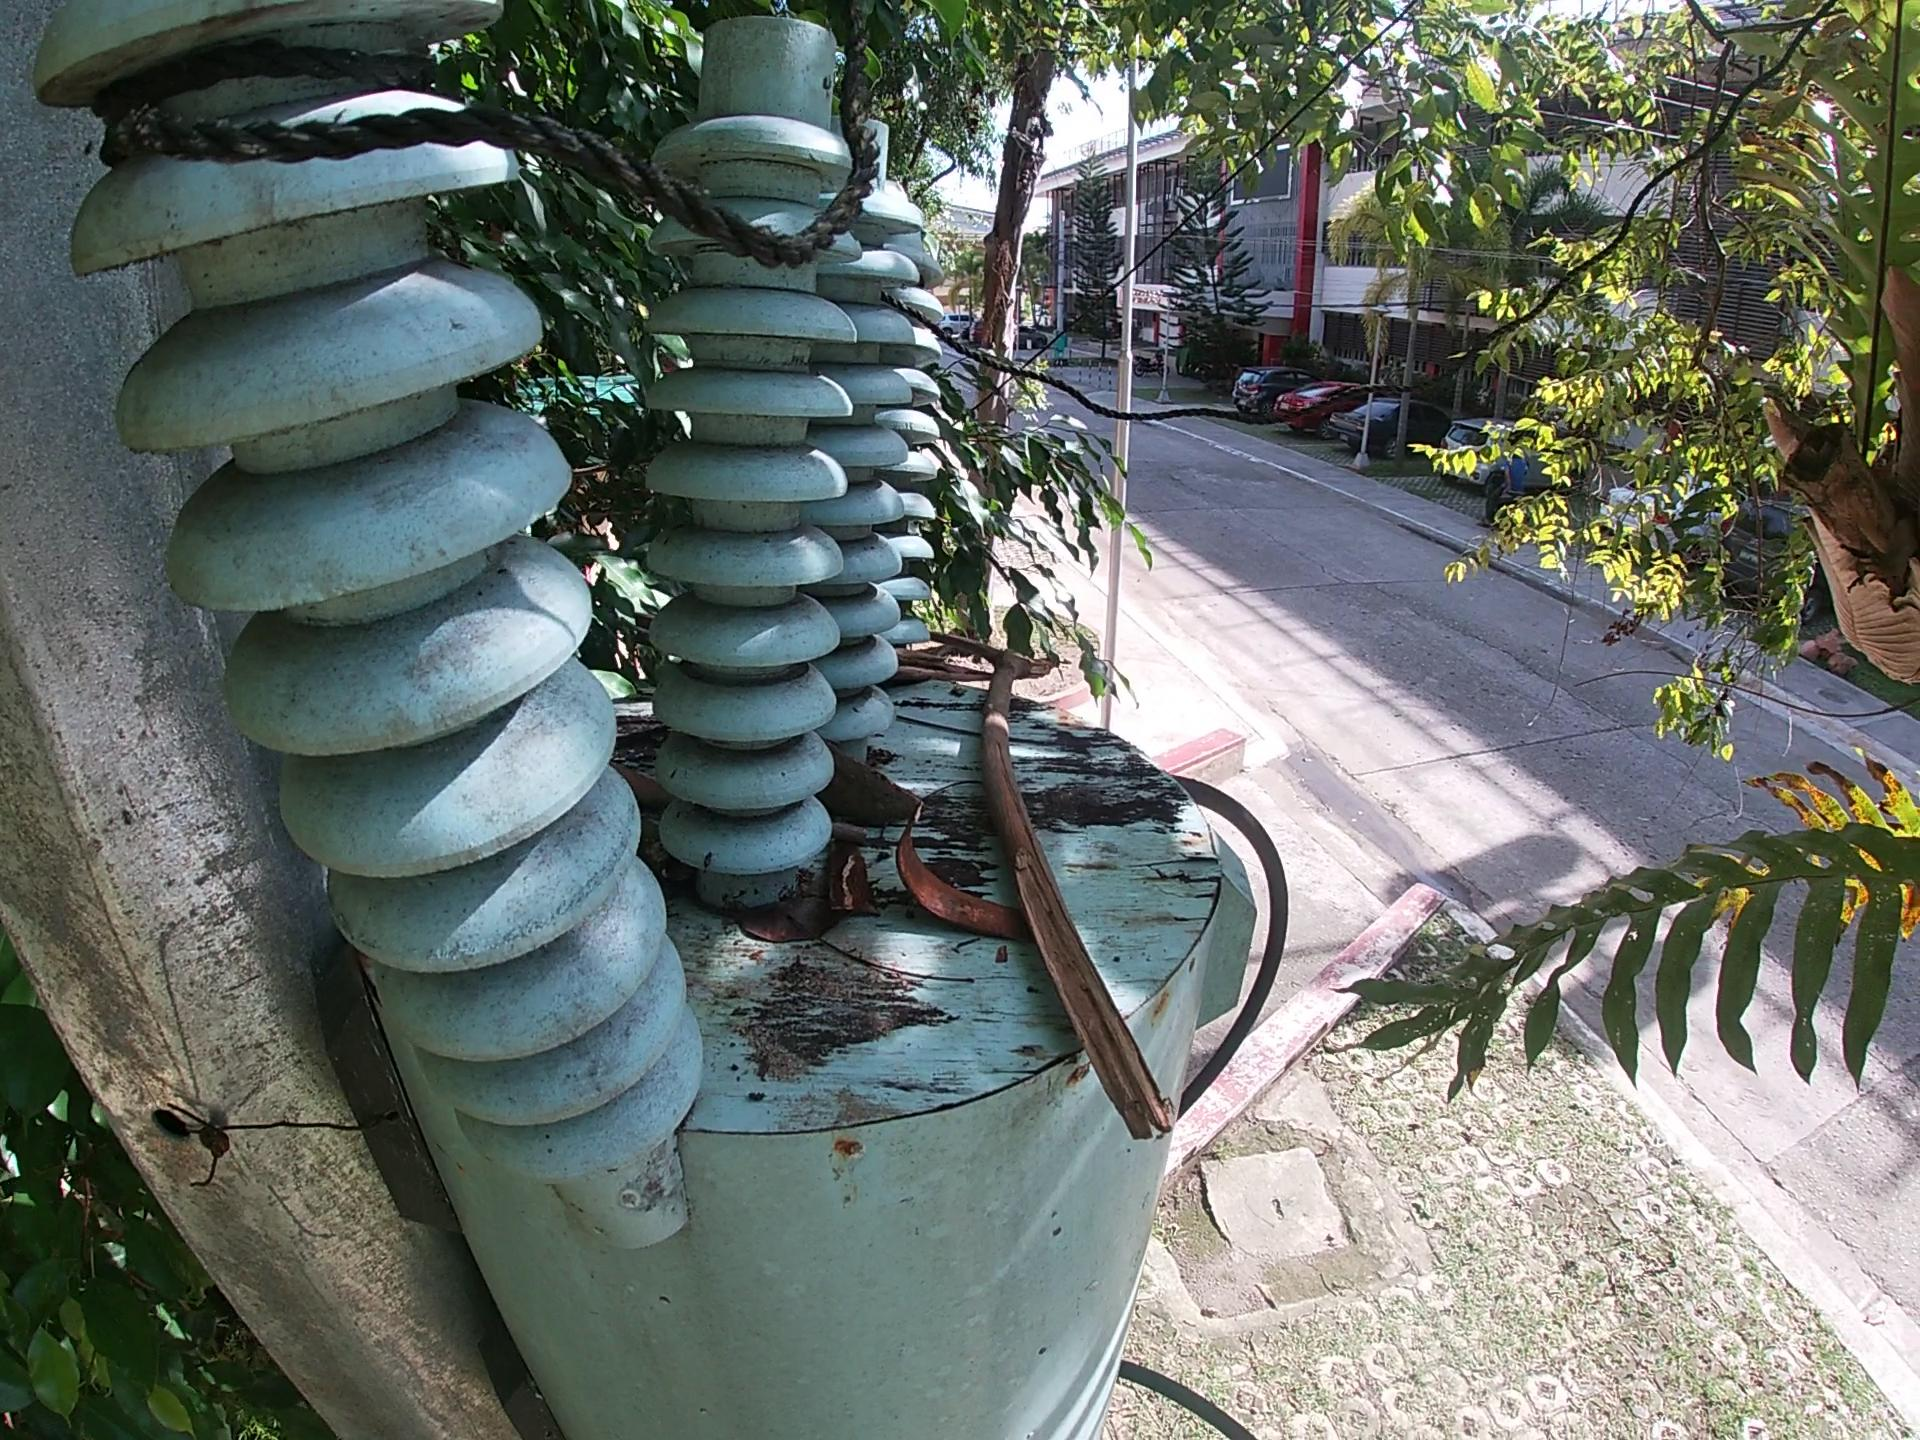leaf: (723, 880, 835, 954)
mahogany fruit: (889, 800, 1036, 939), (815, 741, 933, 830), (824, 838, 874, 920)
tree branch: (924, 628, 1184, 1142), (877, 644, 995, 693), (831, 824, 872, 847)
